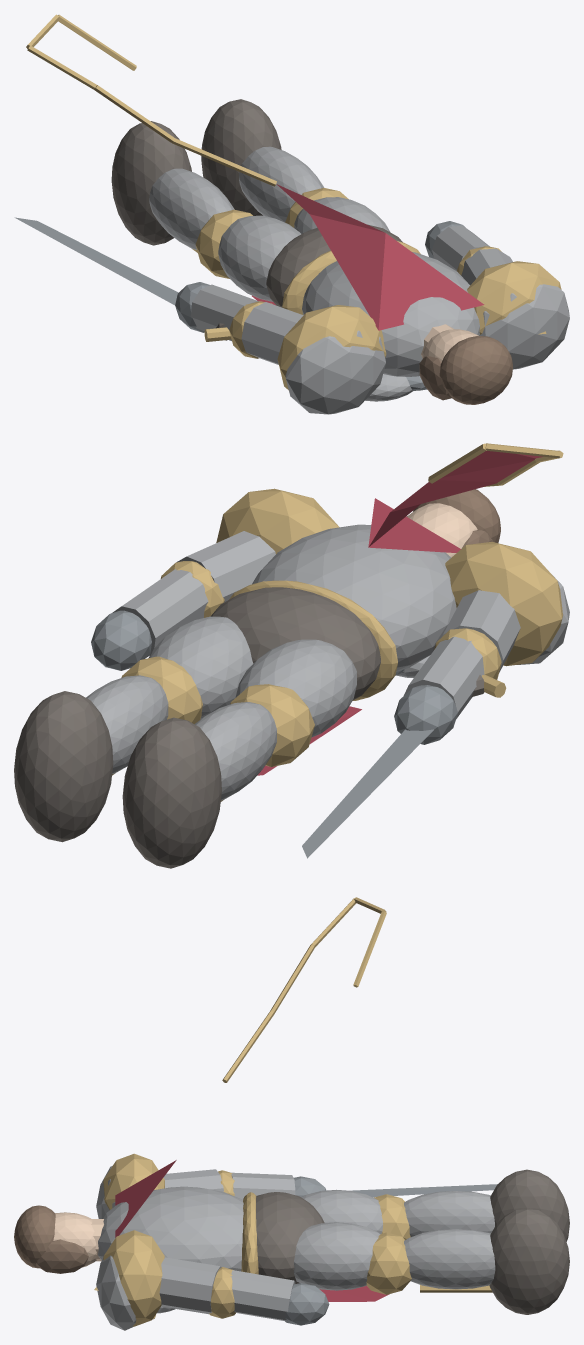
File: fantasy_knight.glb
The picture shows the model from 3 angles, top to bottom: view 1: azimuth 30°, elevation 25°; view 2: azimuth 150°, elevation 25°; view 3: azimuth 270°, elevation 25°; orthographic projection. The views are drawn at different scales.
Parts seen in each view (by area): view 1: flowing_crimson_cape, torso, pauldron_plate-1, boot_-1, boot_1, pauldron_plate1, thigh_-1, shin_greave_-1, hair, shin_greave_1, pauldron_base-1, pauldron_base1 (+19 smaller); view 2: torso, boot_-1, boot_1, pelvis, pauldron_base-1, thigh_-1, thigh_1, flowing_crimson_cape, shin_greave_-1, pauldron_base1, shin_greave_1, forearm1 (+16 smaller); view 3: torso, boot_1, shin_greave_1, thigh_1, pelvis, pauldron_base1, shin_greave_-1, boot_-1, upper_arm1, forearm1, thigh_-1, knee_1 (+14 smaller).
Boxes of the visible parts, left/top/right/bottom form: flowing_crimson_cape: left=276, top=184, right=484, bottom=330; torso: left=302, top=252, right=479, bottom=376; pauldron_plate-1: left=285, top=330, right=385, bottom=414; boot_-1: left=111, top=121, right=191, bottom=245; boot_1: left=201, top=99, right=281, bottom=215; pauldron_plate1: left=480, top=284, right=569, bottom=369; thigh_-1: left=218, top=215, right=301, bottom=301; shin_greave_-1: left=149, top=168, right=234, bottom=249; hair: left=439, top=336, right=512, bottom=404; shin_greave_1: left=239, top=146, right=324, bottom=222; pauldron_base-1: left=277, top=305, right=386, bottom=390; pauldron_base1: left=467, top=261, right=561, bottom=334; torso: left=252, top=524, right=456, bottom=671; boot_-1: left=122, top=717, right=221, bottom=868; boot_1: left=14, top=691, right=113, bottom=842; pelvis: left=210, top=587, right=380, bottom=700; pauldron_base-1: left=445, top=542, right=562, bottom=666; thigh_-1: left=235, top=639, right=356, bottom=737; thigh_1: left=148, top=616, right=253, bottom=719; flowing_crimson_cape: left=368, top=450, right=543, bottom=552; shin_greave_-1: left=195, top=702, right=276, bottom=800; pauldron_base1: left=216, top=488, right=339, bottom=553; shin_greave_1: left=86, top=675, right=168, bottom=773; forearm1: left=112, top=569, right=208, bottom=658; torso: left=98, top=1186, right=243, bottom=1271; boot_1: left=489, top=1208, right=569, bottom=1314; shin_greave_1: left=404, top=1229, right=495, bottom=1289; thigh_1: left=293, top=1222, right=380, bottom=1290; pelvis: left=256, top=1192, right=324, bottom=1283; pauldron_base1: left=103, top=1230, right=164, bottom=1326; shin_greave_-1: left=404, top=1191, right=494, bottom=1236; boot_-1: left=490, top=1169, right=569, bottom=1241; upper_arm1: left=159, top=1257, right=221, bottom=1314; forearm1: left=230, top=1270, right=295, bottom=1320; thigh_-1: left=301, top=1189, right=383, bottom=1233; knee_1: left=366, top=1232, right=411, bottom=1294.
Size of the model in its own units: 1.76 by 1.34 by 2.34.
